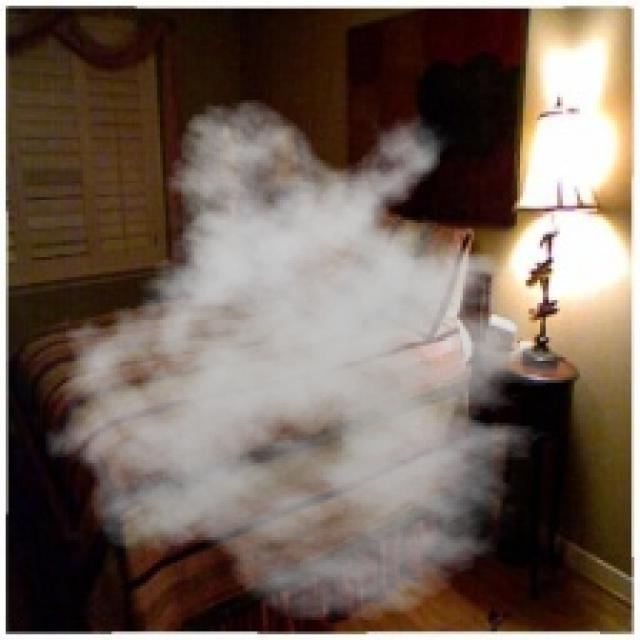smoke: (32, 97, 594, 623)
